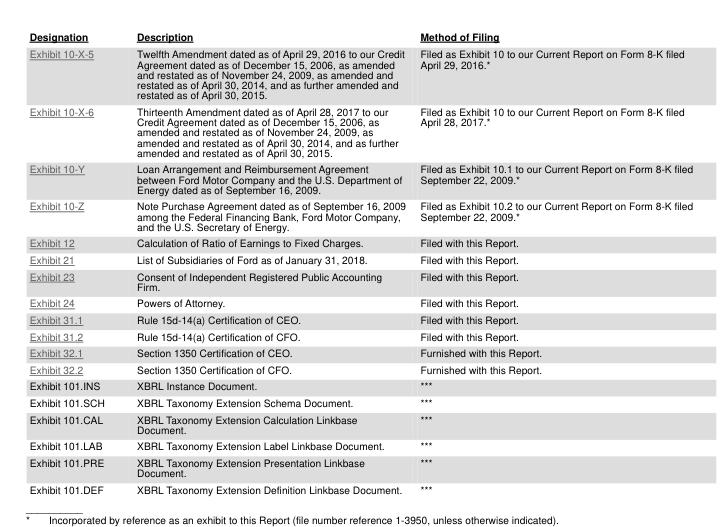table: (28, 28, 692, 495)
table column: (119, 28, 412, 495), (412, 28, 692, 495), (28, 28, 119, 495)
table column header: (28, 28, 692, 44)
table row: (28, 44, 692, 102), (28, 102, 692, 160), (28, 160, 692, 197), (28, 197, 692, 234), (28, 267, 692, 294), (28, 410, 692, 437), (28, 453, 692, 480), (28, 250, 692, 267), (28, 310, 692, 327), (28, 343, 692, 360), (28, 360, 692, 377), (28, 393, 692, 410), (28, 28, 692, 44), (28, 234, 692, 250), (28, 294, 692, 310), (28, 327, 692, 343), (28, 377, 692, 393), (28, 437, 692, 453), (28, 480, 692, 495)
